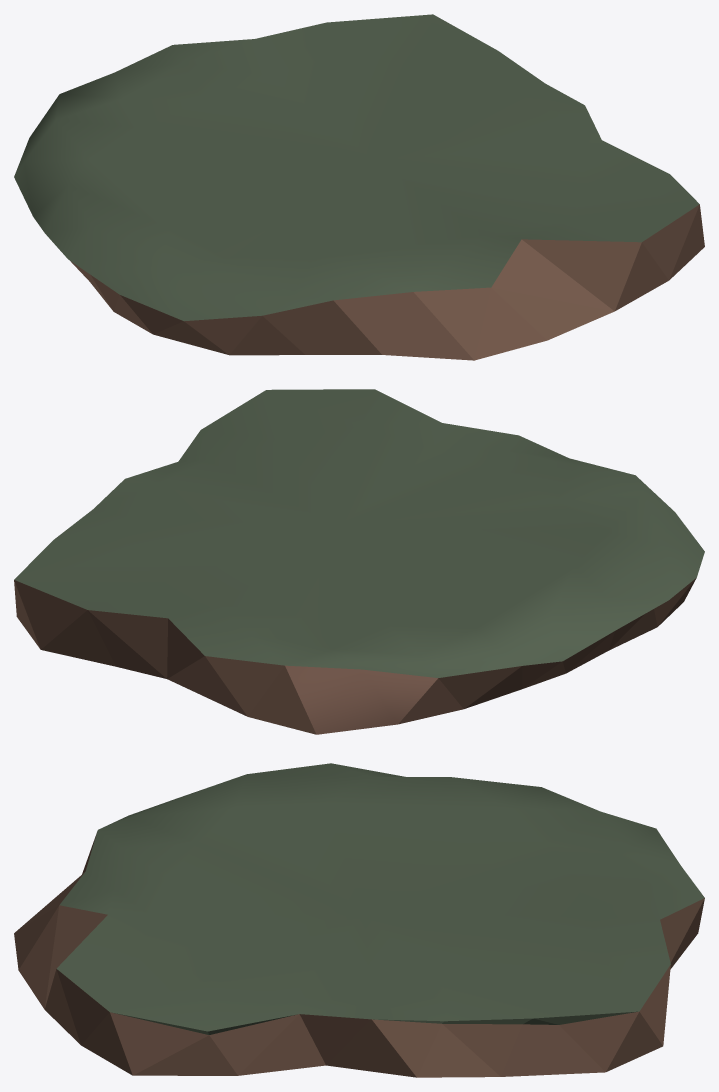
The model's file is ground.glb.
The picture shows the model from 3 angles, top to bottom: view 1: azimuth 30°, elevation 25°; view 2: azimuth 150°, elevation 25°; view 3: azimuth 270°, elevation 25°; orthographic projection. The views are drawn at different scales.
Parts seen in each view (by area): view 1: Ground_Texture-base_0; view 2: Ground_Texture-base_0; view 3: Ground_Texture-base_0.
Part boxes in pixels (<box>): Ground_Texture-base_0: <box>14,14,704,360</box>; Ground_Texture-base_0: <box>14,389,704,734</box>; Ground_Texture-base_0: <box>14,763,704,1077</box>.
Bounding box in the file's own units: 27.22 × 3.08 × 29.78.
1 material, 1 textured.
